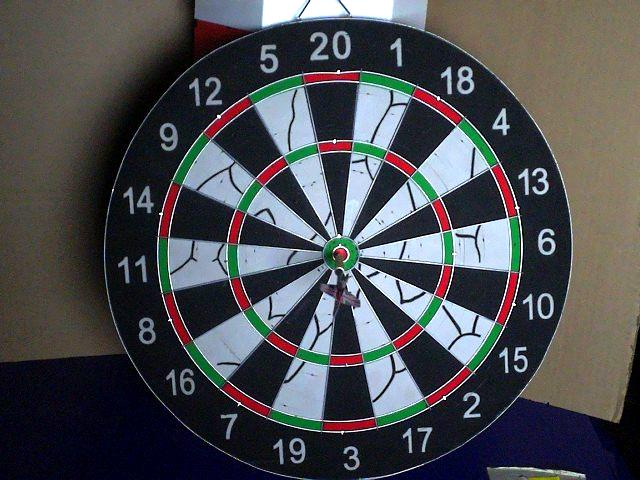bullseye: (332, 245, 350, 263)
